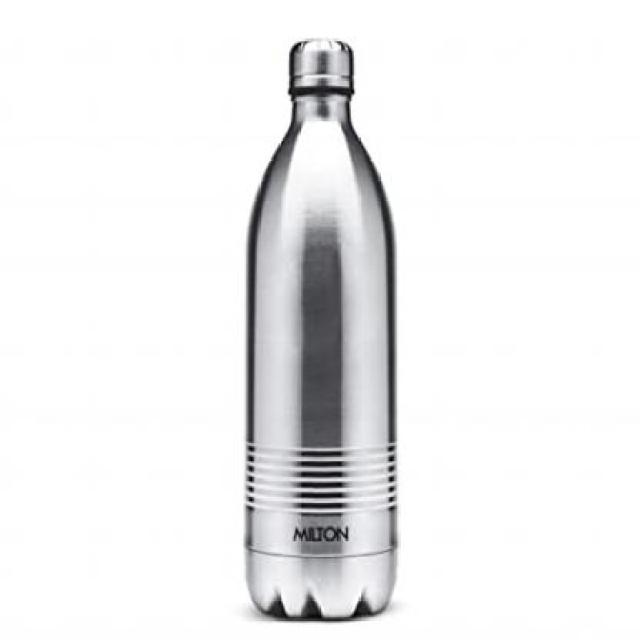Drinking: (234, 32, 406, 632)
